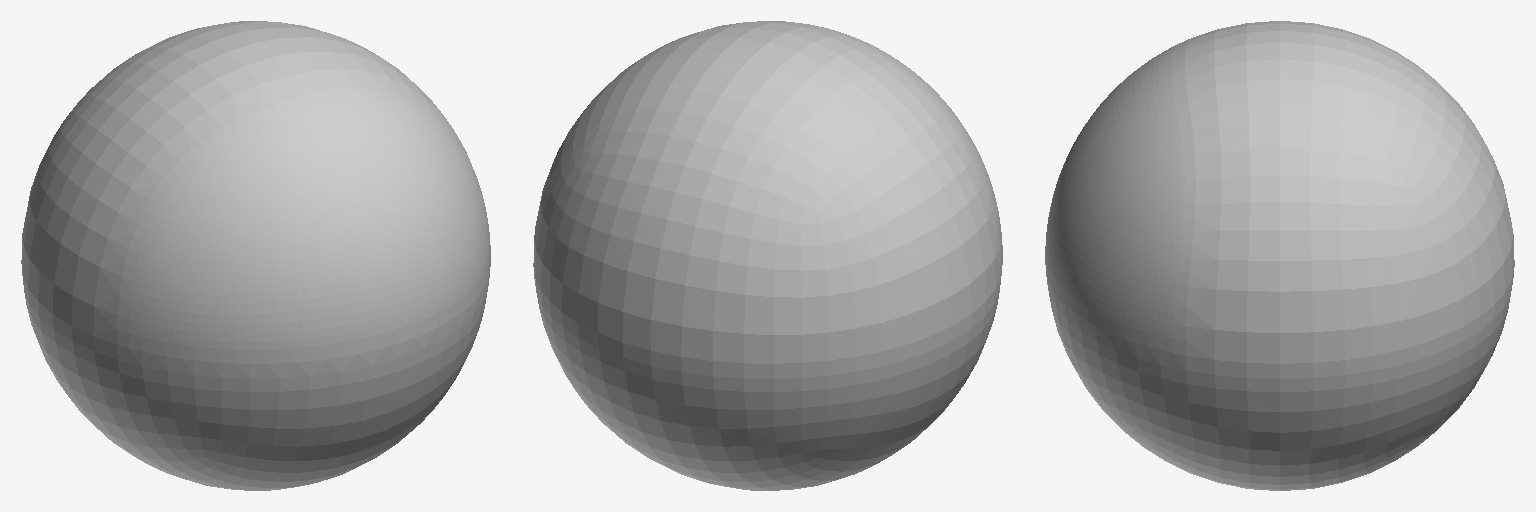
Rendered from Bateo_Pelota.obj.
3 renders of one model, left to right at view 1: azimuth 30°, elevation 25°; view 2: azimuth 150°, elevation 25°; view 3: azimuth 270°, elevation 25°, orthographic.
Parts seen in each view (by area): view 1: vsn_mesh_0_pm0100_00_Skin, vsn_mesh_1_pm0100_00_Skin; view 2: vsn_mesh_0_pm0100_00_Skin; view 3: vsn_mesh_0_pm0100_00_Skin, vsn_mesh_1_pm0100_00_Skin.
Boxes of the visible parts, <box> form: vsn_mesh_0_pm0100_00_Skin: <box>21,21,490,490</box>; vsn_mesh_1_pm0100_00_Skin: <box>187,149,484,363</box>; vsn_mesh_0_pm0100_00_Skin: <box>533,21,1002,490</box>; vsn_mesh_0_pm0100_00_Skin: <box>1046,21,1514,490</box>; vsn_mesh_1_pm0100_00_Skin: <box>1045,81,1146,334</box>.
Bounding box in the file's own units: 2.75 × 2.77 × 2.76.